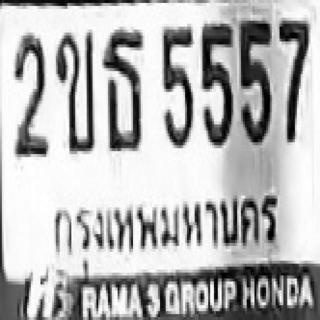A02: (54, 30, 92, 151)
A24: (101, 27, 144, 148)
N02: (12, 31, 46, 156)
N05: (239, 18, 270, 142), (160, 24, 191, 145), (201, 21, 231, 145)
N07: (278, 18, 308, 139)
P04: (45, 188, 285, 268)
